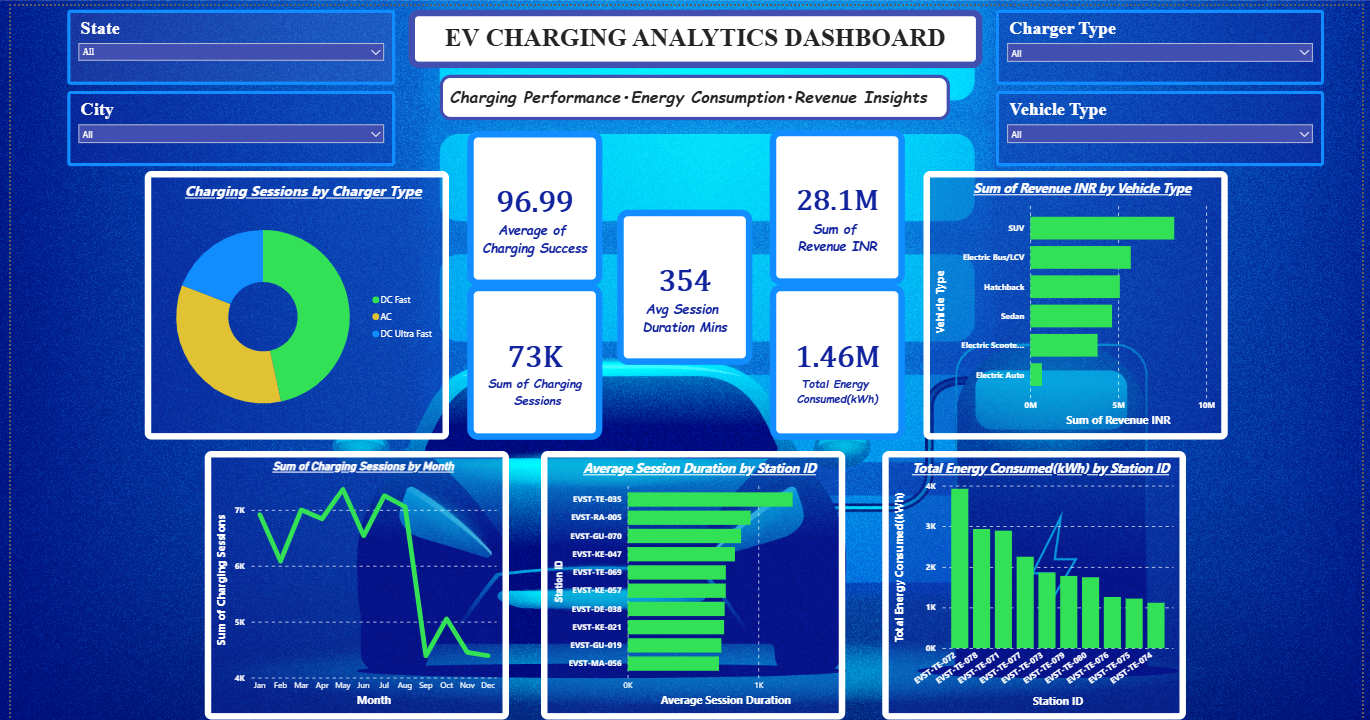

Layout of this report page (visuals, bound fields, positions):
{"tool":"powerbi","page":{"name":"EV Executive Overview","canvas":[2000,1056],"ordinal":0},"visuals":[{"type":"card","fields":{"Values":["Sum(Sheet1.Charging_Sessions)"]},"box":[675.2,412.3,199.8,229.3],"z":0},{"type":"card","fields":{"Values":["Sum(Sheet1.Energy_Consumed_kWh)"]},"box":[1123.3,412.3,199.8,229.3],"z":1000},{"type":"card","fields":{"Values":["Sum(Sheet1.Revenue_INR)"]},"box":[1123.3,183,199.8,229.3],"z":2000},{"type":"card","fields":{"Values":["Avg(Sheet1.Avg_Session_Duration_Min)"]},"box":[898.2,300.8,199.8,229.3],"z":3000},{"type":"lineChart","fields":{"Y":["Sum(Sheet1.Charging_Sessions)"],"Category":["Sheet1.Month"]},"box":[286.1,658.4,450.1,397.6],"z":4000},{"type":"clusteredBarChart","fields":{"Category":["Sheet1.Station_ID"],"Y":["Avg(Sheet1.Avg_Session_Duration_Min)"]},"box":[784.6,658.4,450.1,397.6],"z":5000},{"type":"clusteredColumnChart","title":"Total Energy Consumed(kWh) by Station ID","fields":{"Category":["Sheet1.Station_ID"],"Y":["Sum(Sheet1.Total Energy Consumed(kWh))"]},"box":[1289.8,658.8,449.7,397.9],"z":6000},{"type":"donutChart","title":"Charging Sessions by Charger Type","fields":{"Category":["Sheet1.Charger_Type"],"Y":["Sum(Sheet1.Charging_Sessions)"]},"box":[197.7,244,450.1,397.6],"z":7000},{"type":"card","fields":{"Values":["Avg(Sheet1.Charging_Success_%)"]},"box":[675.2,185.1,199.8,229.3],"z":8000},{"type":"clusteredBarChart","fields":{"Category":["Sheet1.Vehicle_Type"],"Y":["Sum(Sheet1.Revenue_INR)"]},"box":[1350.4,244,450.1,397.6],"z":9000},{"type":"textbox","box":[589,6,849.8,86.2],"z":10000},{"type":"textbox","box":[635.3,102,755.2,67.3],"z":11000},{"type":"slicer","fields":{"Values":["Sheet1.State"]},"box":[84.1,6.3,485.9,111.5],"z":12000},{"type":"slicer","fields":{"Values":["Sheet1.Charger_Type"]},"box":[1457.7,6.3,485.9,111.5],"z":13000},{"type":"slicer","fields":{"Values":["Sheet1.Vehicle_Type"]},"box":[1457.7,126.2,485.9,111],"z":14000},{"type":"slicer","fields":{"Values":["Sheet1.City"]},"box":[84.1,126.2,485.9,111.5],"z":15000}]}

Visuals, with their boxes in screenshot pixels (x1, y1, x2, y2), scaled from the page's 2000x1056 canvas onto the 1370x720 screenshot:
card - Sum(Sheet1.Charging_Sessions): locate(463, 281, 599, 437)
card - Sum(Sheet1.Energy_Consumed_kWh): locate(769, 281, 906, 437)
card - Sum(Sheet1.Revenue_INR): locate(769, 125, 906, 281)
card - Avg(Sheet1.Avg_Session_Duration_Min): locate(615, 205, 752, 361)
lineChart - Sum(Sheet1.Charging_Sessions) x Sheet1.Month: locate(196, 449, 504, 719)
clusteredBarChart - Sheet1.Station_ID x Avg(Sheet1.Avg_Session_Duration_Min): locate(537, 449, 846, 719)
"Total Energy Consumed(kWh) by Station ID" clusteredColumnChart: locate(884, 449, 1192, 719)
"Charging Sessions by Charger Type" donutChart: locate(135, 166, 444, 437)
card - Avg(Sheet1.Charging_Success_%): locate(463, 126, 599, 283)
clusteredBarChart - Sheet1.Vehicle_Type x Sum(Sheet1.Revenue_INR): locate(925, 166, 1233, 437)
textbox: locate(403, 4, 986, 63)
textbox: locate(435, 70, 952, 115)
slicer - Sheet1.State: locate(58, 4, 390, 80)
slicer - Sheet1.Charger_Type: locate(999, 4, 1331, 80)
slicer - Sheet1.Vehicle_Type: locate(999, 86, 1331, 162)
slicer - Sheet1.City: locate(58, 86, 390, 162)
